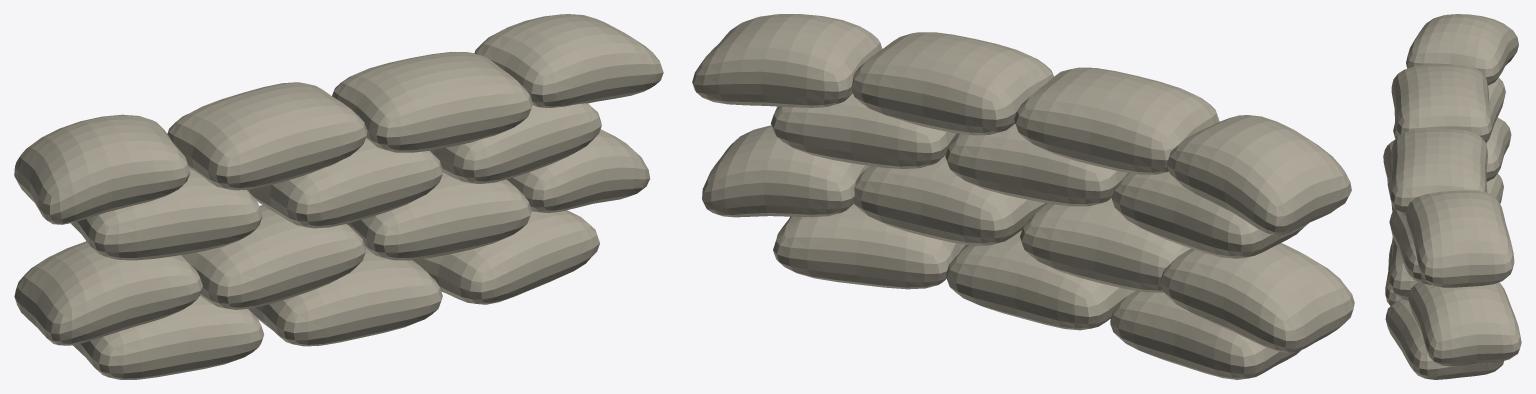
The model's file is p_sandbags.glb.
3 views of the same model, side by side, from view 1: azimuth 30°, elevation 25°; view 2: azimuth 150°, elevation 25°; view 3: azimuth 270°, elevation 25° (orthographic). The views are drawn at different scales.
Parts seen in each view (by area): view 1: hull; view 2: hull; view 3: hull.
Boxes of the visible parts, x1,y1,x2,y2 form: hull: [14, 14, 663, 379]; hull: [692, 14, 1354, 379]; hull: [1383, 14, 1521, 379].
Size of the model in its own units: 3 by 1.13 by 0.7392.
